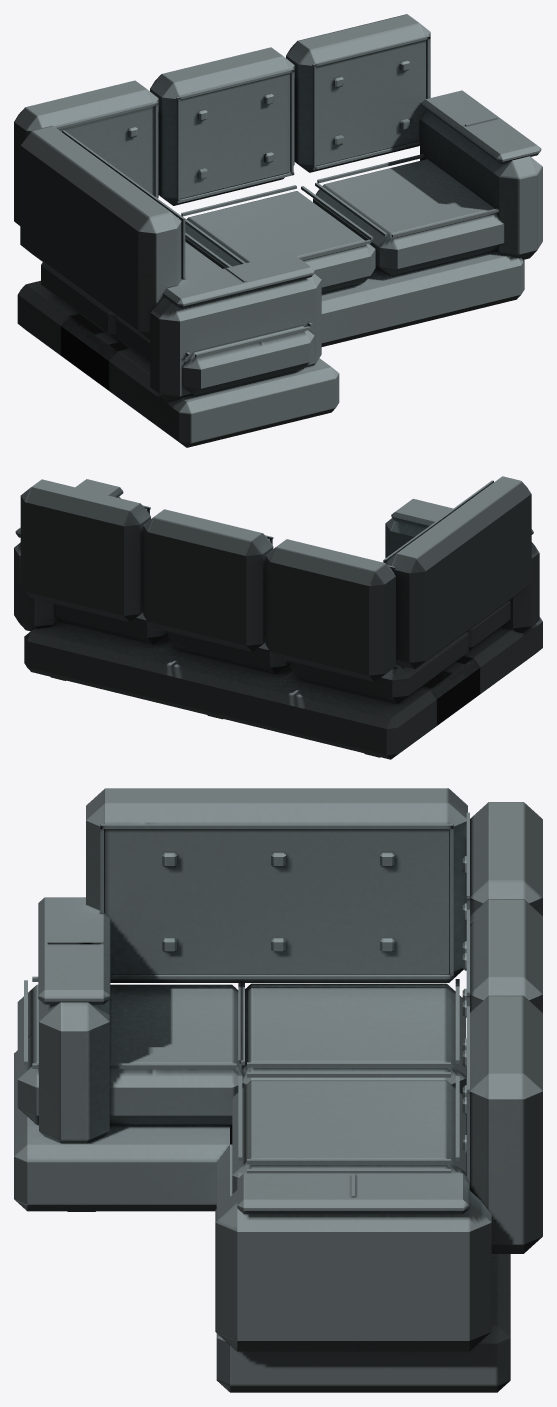
File: 0-20261016-1900-ev014-r02-collab-loungesofa_baked.glb
3 renders of one model, top to bottom at view 1: azimuth 30°, elevation 25°; view 2: azimuth 150°, elevation 25°; view 3: azimuth 270°, elevation 25°, orthographic. The views are drawn at different scales.
Visible parts, largest first — view 1: SW_Collab_LoungeSofa; view 2: SW_Collab_LoungeSofa; view 3: SW_Collab_LoungeSofa.
Part boxes in pixels (box(x1,y1,x2,y2)): SW_Collab_LoungeSofa: box(14, 14, 542, 447); SW_Collab_LoungeSofa: box(14, 476, 542, 759); SW_Collab_LoungeSofa: box(14, 788, 542, 1392).
Bounding box in the file's own units: 2.58 × 1.2 × 1.8.
Materials: 1 (1 with a texture image).
